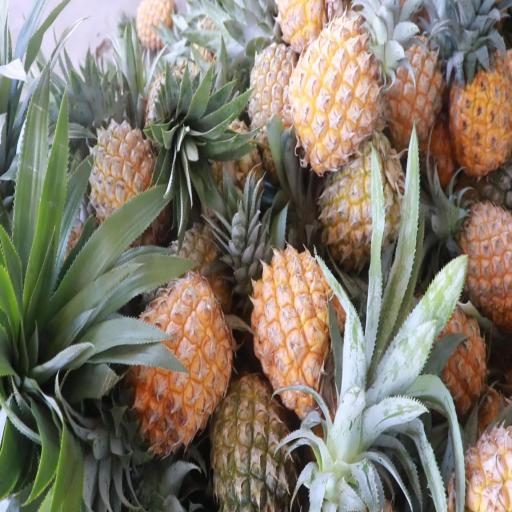------------------------------: (318, 146, 403, 267)
Pineapple - v8 v1: (124, 286, 230, 452), (253, 250, 344, 408), (294, 22, 379, 164), (410, 301, 484, 425), (441, 202, 512, 314), (443, 56, 512, 168), (379, 38, 444, 148)
